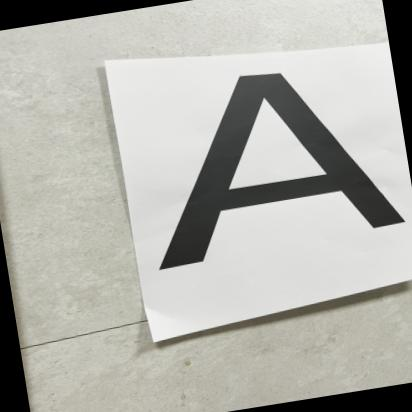seat: (109, 46, 412, 287)
